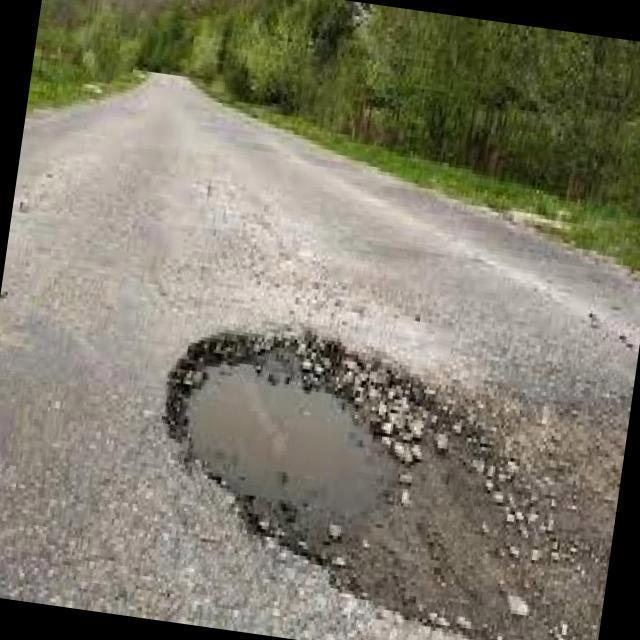pothole: (165, 330, 620, 640)
